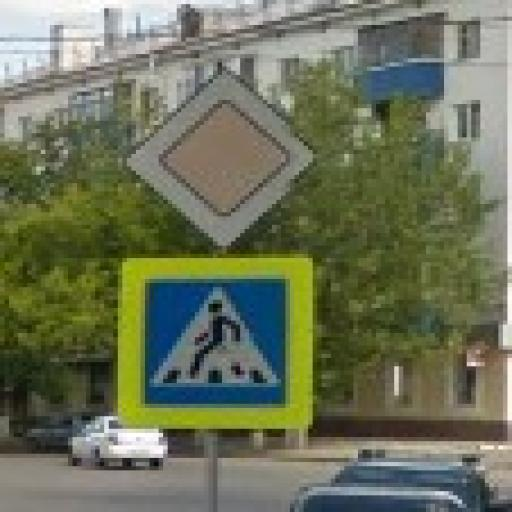traffic_sign: (123, 68, 323, 251), (119, 255, 318, 430)
